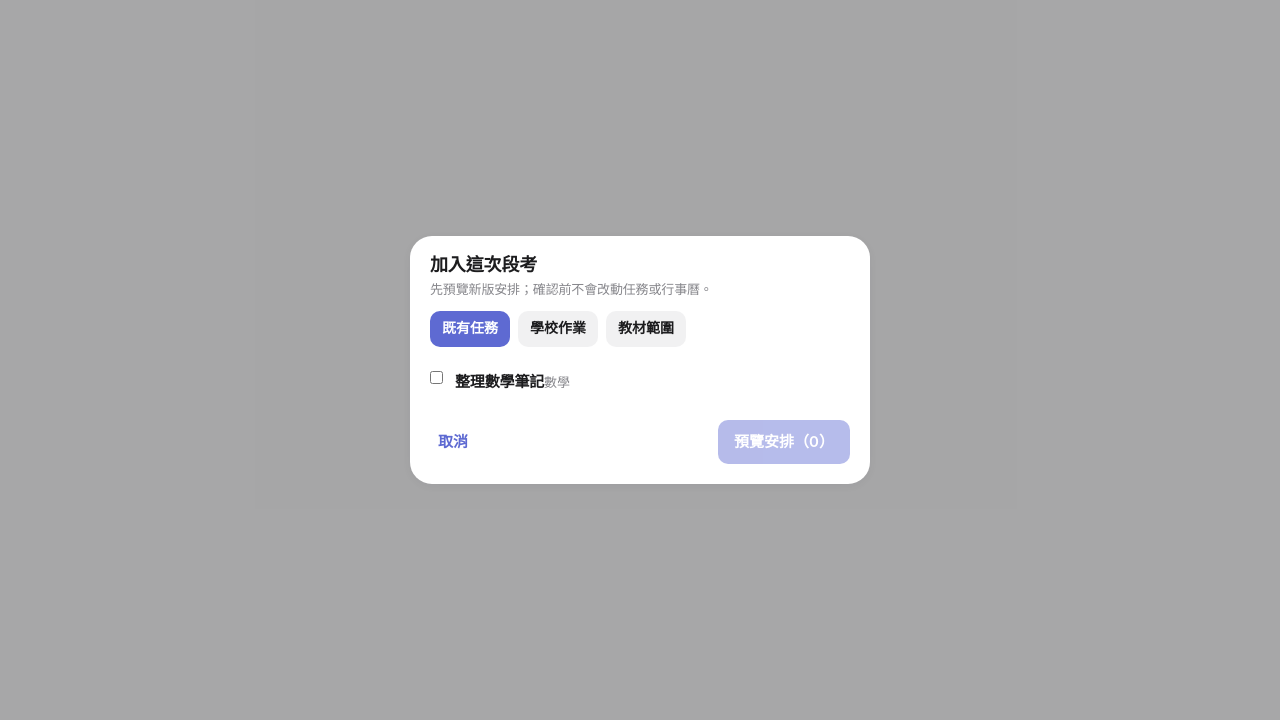
Test: PlanContentPicker › 教材內容讀取失敗時不誤報為空內容，且可直接重試
Step 1. Click the button "教材範圍" → x=646, y=329, box [606,311,686,347]
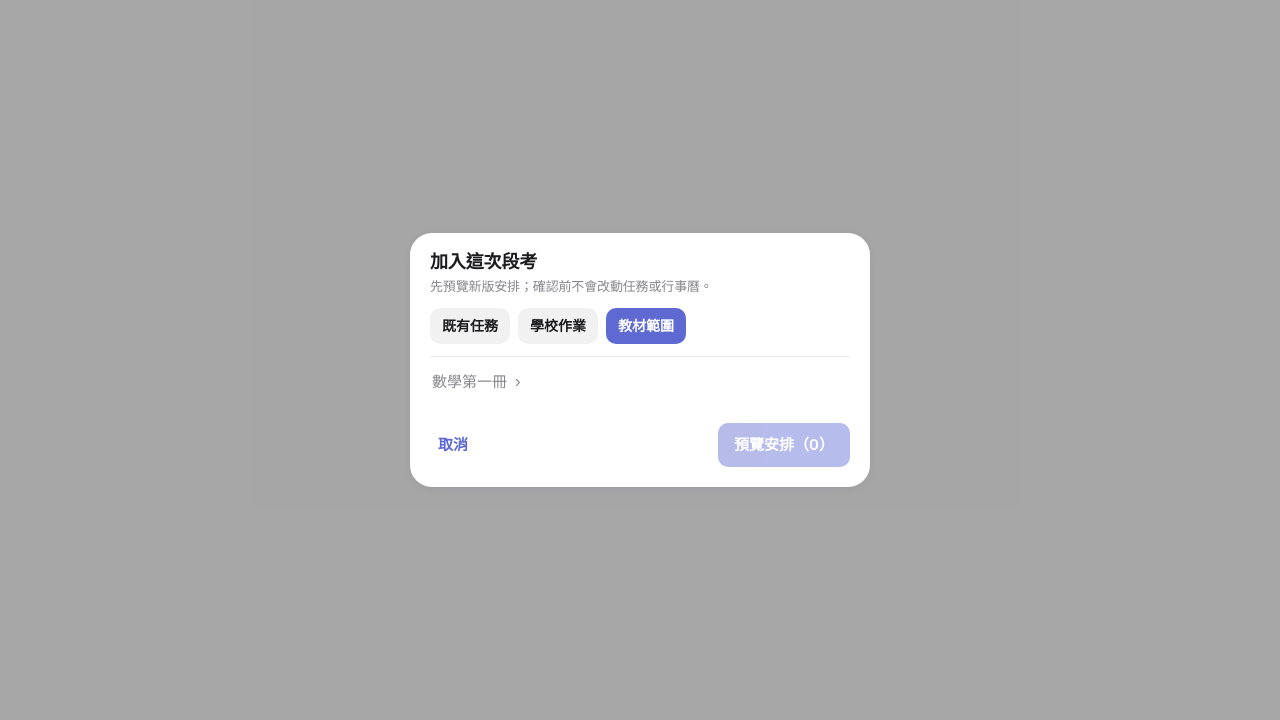
Step 2. Click the text "數學第一冊" → x=470, y=382, box [432,371,507,393]
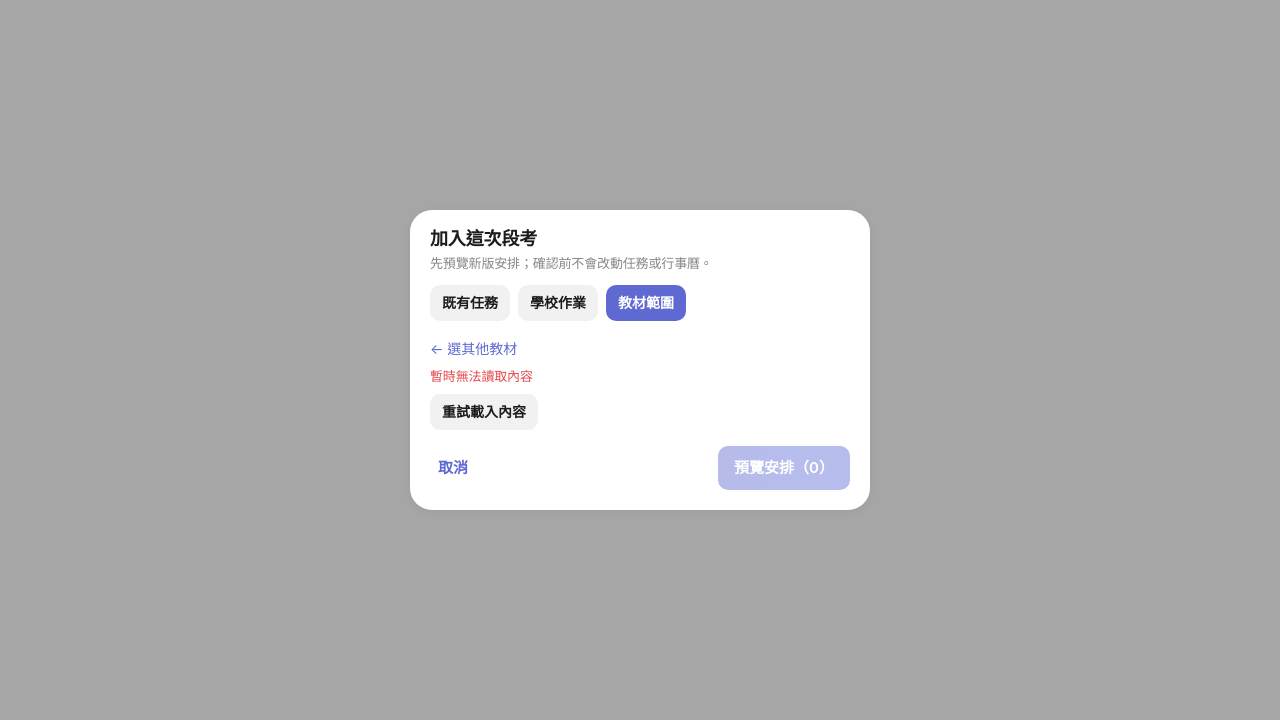
Expected: the text "暫時無法讀取內容" is shown, [430,368,533,384]
Step 3. Click the button "重試載入內容" → x=484, y=412, box [430,394,538,430]
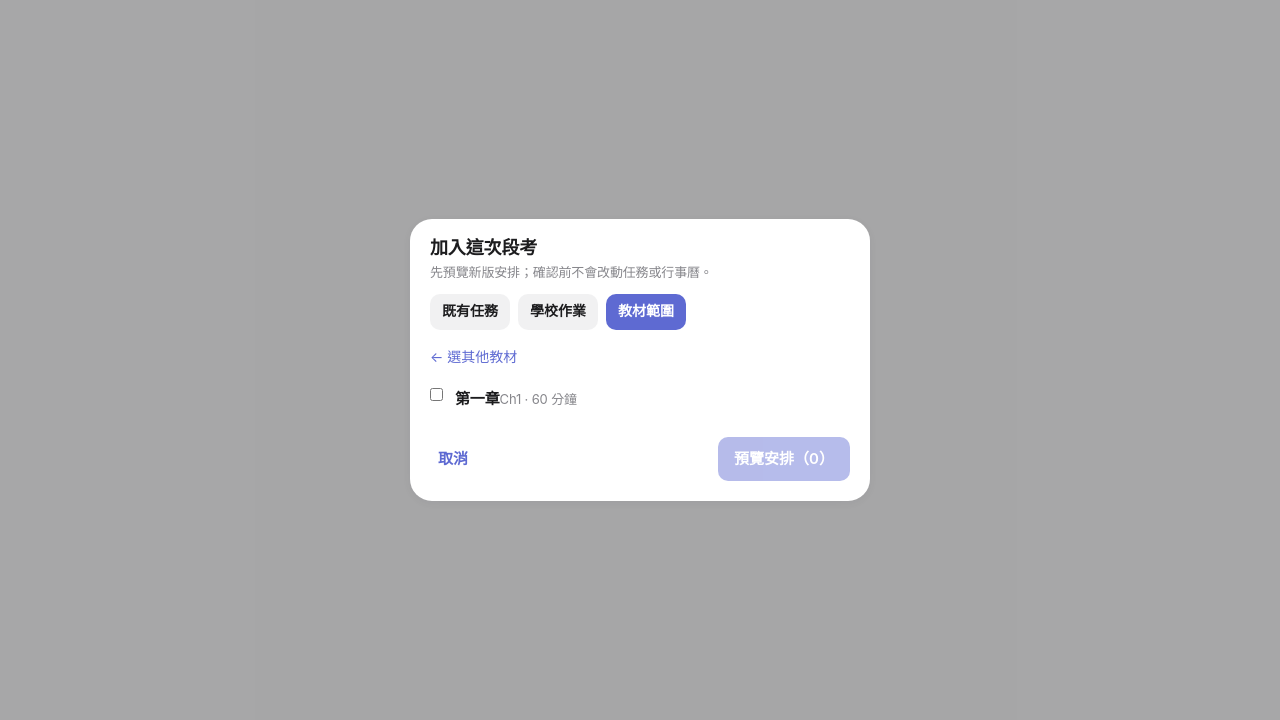
Expected: the text "第一章" is shown, [455,389,500,408]
